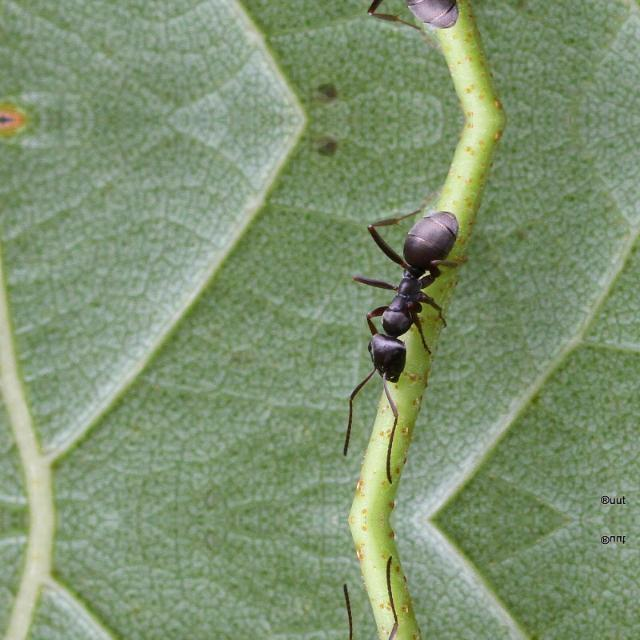Formica: (348, 200, 459, 388), (348, 0, 458, 40)
